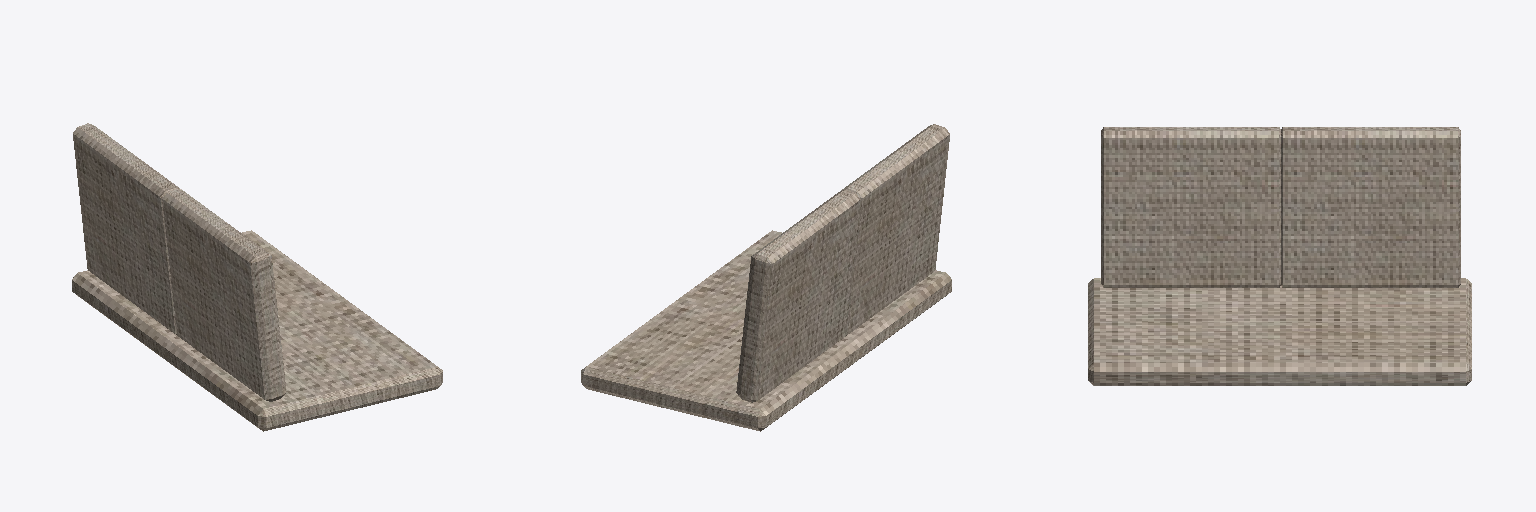
3 renders of one model, left to right at view 1: azimuth 30°, elevation 25°; view 2: azimuth 150°, elevation 25°; view 3: azimuth 270°, elevation 25°, orthographic.
Parts seen in each view (by area): view 1: Cojines:group5_pasted__pCube1; view 2: Cojines:group5_pasted__pCube1; view 3: Cojines:group5_pasted__pCube1.
Part boxes in pixels (x1,y1,x2,y2): Cojines:group5_pasted__pCube1: (72, 123, 442, 431); Cojines:group5_pasted__pCube1: (581, 124, 951, 431); Cojines:group5_pasted__pCube1: (1088, 127, 1471, 385).
Bounding box in the file's own units: 3.44 × 3.02 × 6.08.
Materials: 1 (1 with a texture image).